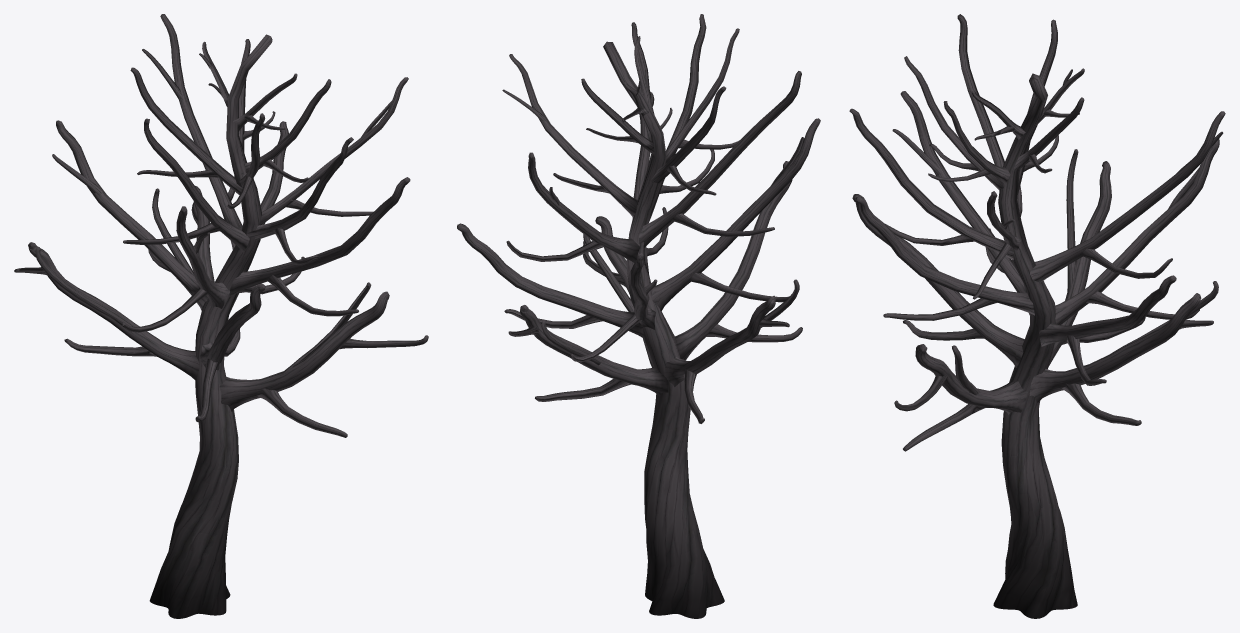
Rendered from DeadTree_1.glb.
The picture shows the model from 3 angles, left to right: view 1: azimuth 30°, elevation 25°; view 2: azimuth 150°, elevation 25°; view 3: azimuth 270°, elevation 25°; orthographic projection. The views are drawn at different scales.
Visible parts, largest first — view 1: DeadTree_1; view 2: DeadTree_1; view 3: DeadTree_1.
Part boxes in pixels (x1,y1,x2,y2): DeadTree_1: (14, 14, 428, 618); DeadTree_1: (457, 14, 820, 618); DeadTree_1: (849, 14, 1225, 618).
Size of the model in its own units: 6.15 by 9.5 by 5.75.
Materials: 1 (1 with a texture image).
